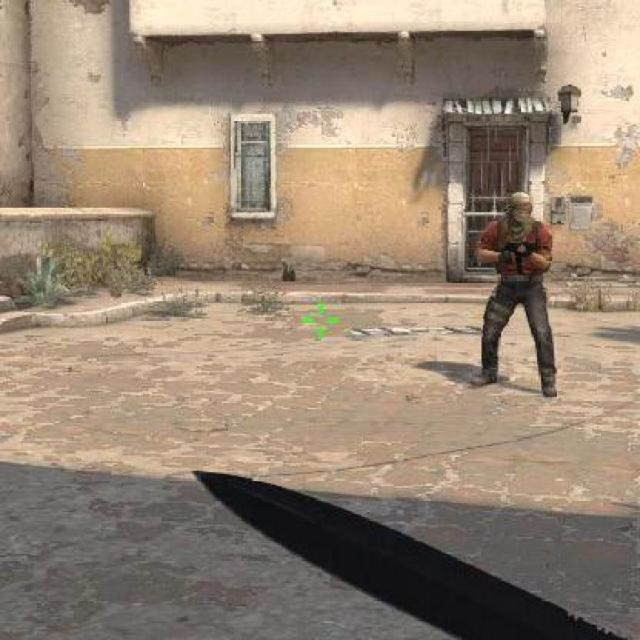T: (472, 187, 560, 396)
T_HEAD: (503, 191, 539, 226)
